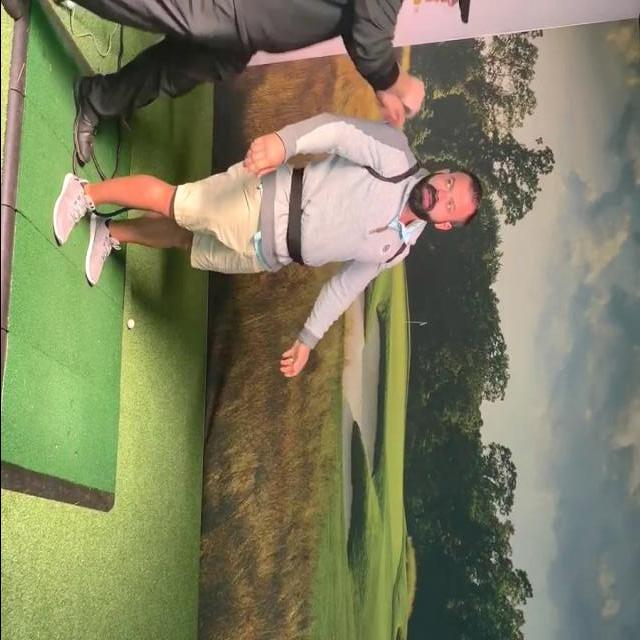golf ball: (126, 318, 134, 329)
